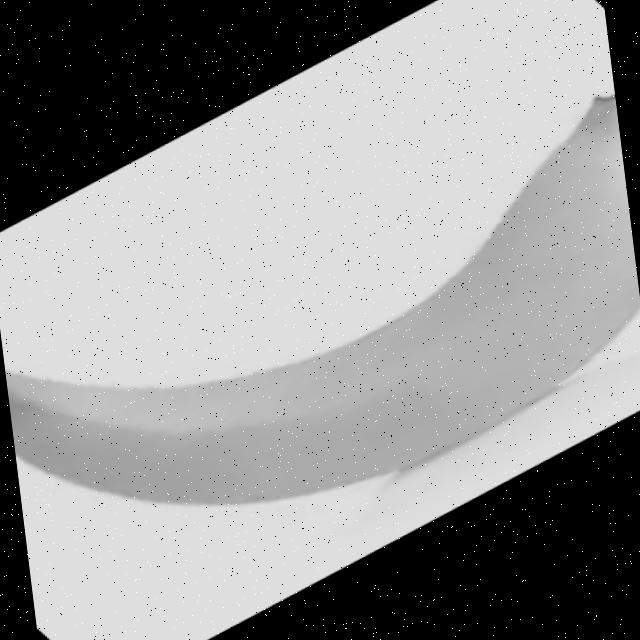Ripe: (0, 83, 640, 535)
